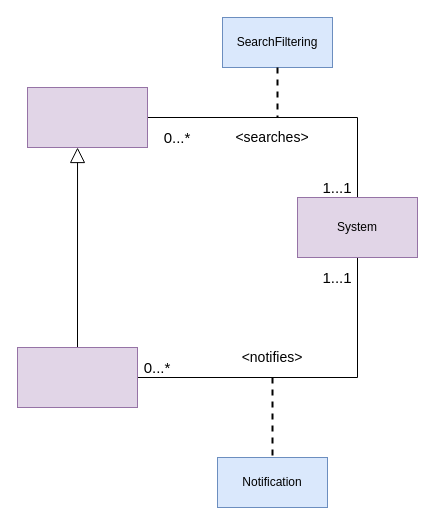
Some shapes in this 435 by 525 pixel diagram are drawn without their labels. The shapes that lost their labels are listed below. From the top down, each one's centre as x and y in pixels, then its label:
(87,117): Customer
(77,377): RegisteredCustomer
